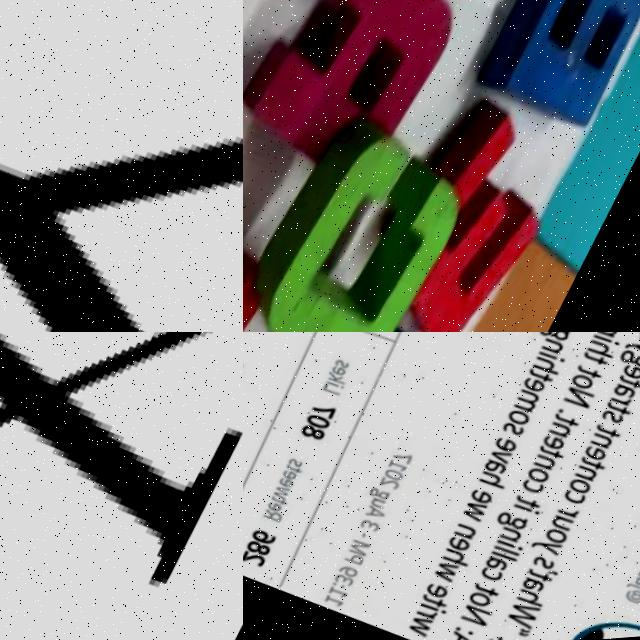0: (309, 413, 338, 436), (389, 469, 414, 488)
1: (331, 594, 358, 614), (391, 460, 418, 480), (334, 586, 360, 605)
2: (247, 549, 277, 573), (386, 478, 409, 497)
3: (366, 518, 391, 539), (340, 573, 366, 592)
6: (257, 527, 286, 551), (243, 356, 250, 375)
7: (315, 402, 344, 425), (398, 452, 421, 470)
8: (304, 423, 336, 449), (251, 538, 282, 561), (243, 365, 246, 384)
9: (344, 564, 370, 584)
A: (243, 0, 491, 206)
B: (472, 0, 640, 168)
C: (251, 119, 494, 332)
E: (365, 93, 591, 332)
X: (0, 332, 243, 640)
Y: (0, 0, 243, 332)
